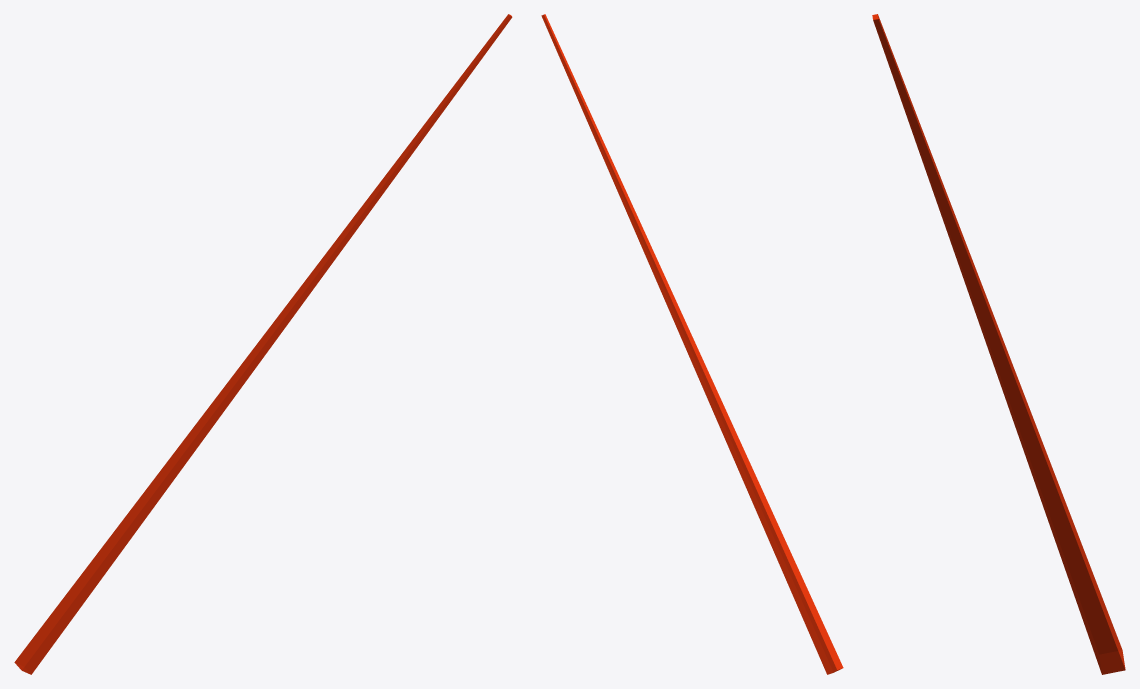
The model's file is Event_421127236_EBrechit_9.fbx.
The picture shows the model from 3 angles, left to right: view 1: azimuth 30°, elevation 25°; view 2: azimuth 150°, elevation 25°; view 3: azimuth 270°, elevation 25°; orthographic projection. The views are drawn at different scales.
Visible parts, largest first — view 1: Model; view 2: Model; view 3: Model.
Part boxes in pixels (x1=…): Model: x1=14, y1=14, x2=512, y2=674; Model: x1=541, y1=14, x2=843, y2=674; Model: x1=872, y1=14, x2=1125, y2=674.
Size of the model in its own units: 7.54 by 10.52 by 2.47.
